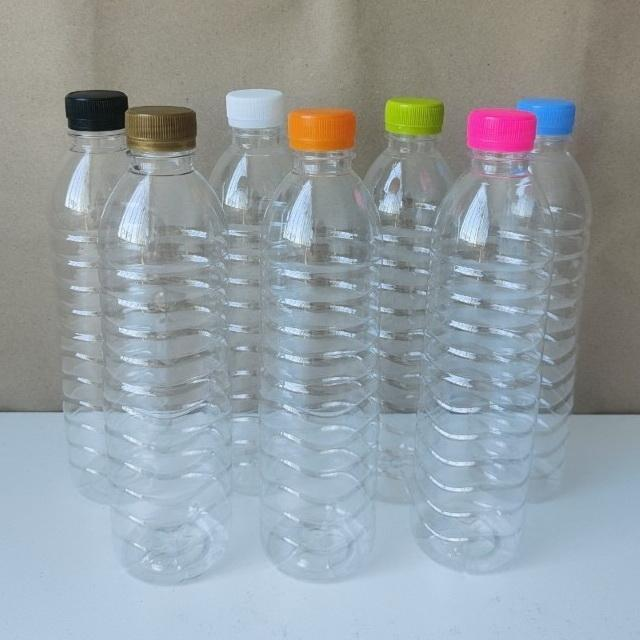PET Bottle: (101, 109, 239, 584), (254, 103, 380, 585), (421, 103, 540, 601), (374, 85, 452, 566), (48, 84, 128, 506), (219, 76, 286, 568), (521, 76, 593, 514)
